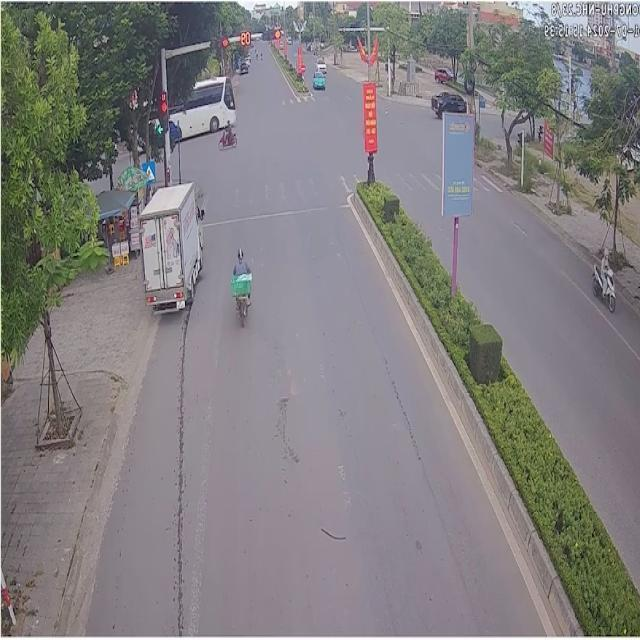car: (138, 182, 202, 309), (168, 75, 234, 135), (429, 90, 464, 115), (312, 70, 323, 88)
motobike: (229, 246, 250, 322), (590, 261, 614, 310), (217, 121, 236, 146)
red_light: (160, 89, 169, 132), (260, 26, 280, 38), (211, 35, 227, 50), (240, 29, 251, 44)
stop_line: (203, 203, 346, 225)
